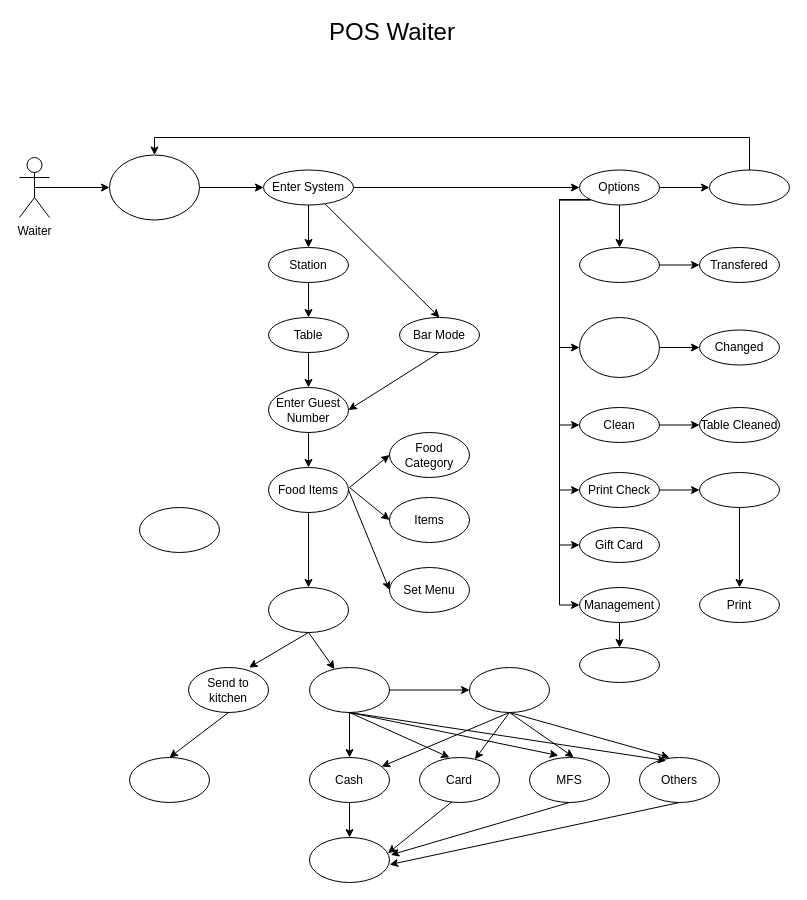
This 807x900 diagram has some shape labels left out. The shapes that lost their labels are listed below. From the top down, each one's box as (x1, y1, x2, y2) in pixels, then its label:
(108, 154, 200, 220): Clock In by scanning ID/code
(708, 169, 790, 205): Exit
(578, 246, 660, 282): Transfer Table
(578, 316, 660, 378): Change Number of Guest
(698, 472, 780, 508): Choose Ticket
(138, 506, 220, 552): Cancel Order
(268, 586, 348, 632): Create Order
(578, 646, 660, 682): No access
(308, 666, 390, 712): Payment
(468, 666, 550, 712): Split Payment
(128, 756, 210, 802): Show Status
(308, 836, 390, 882): Receipt
